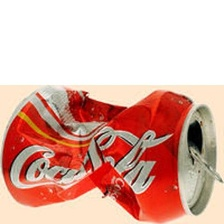can: (0, 86, 223, 222)
